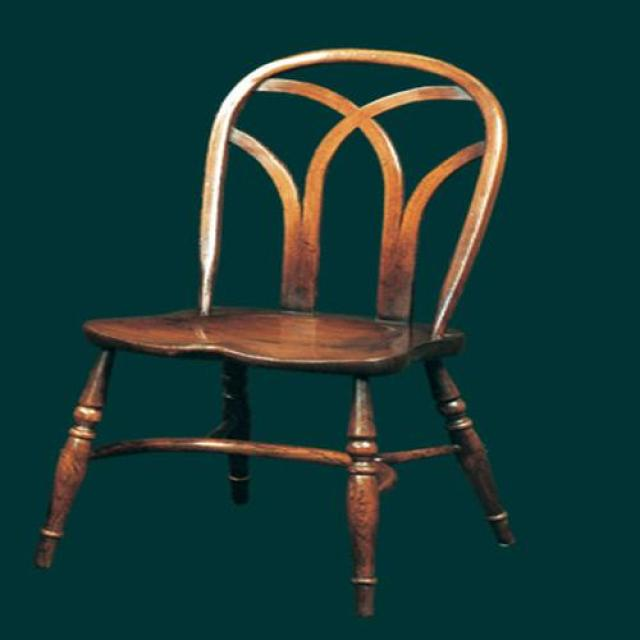chair: (35, 49, 515, 618)
